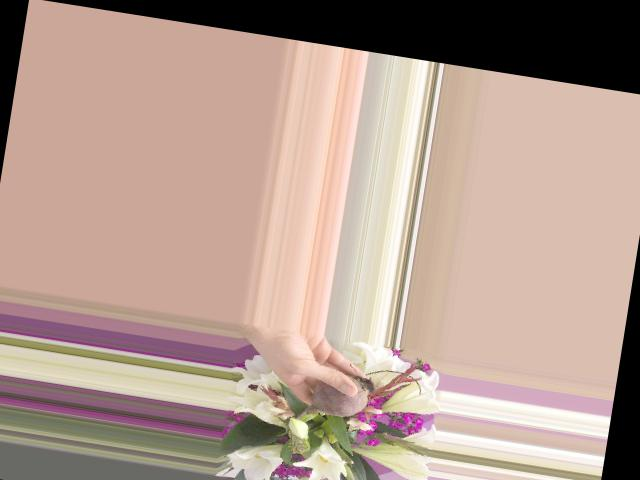beet: (293, 366, 376, 431)
